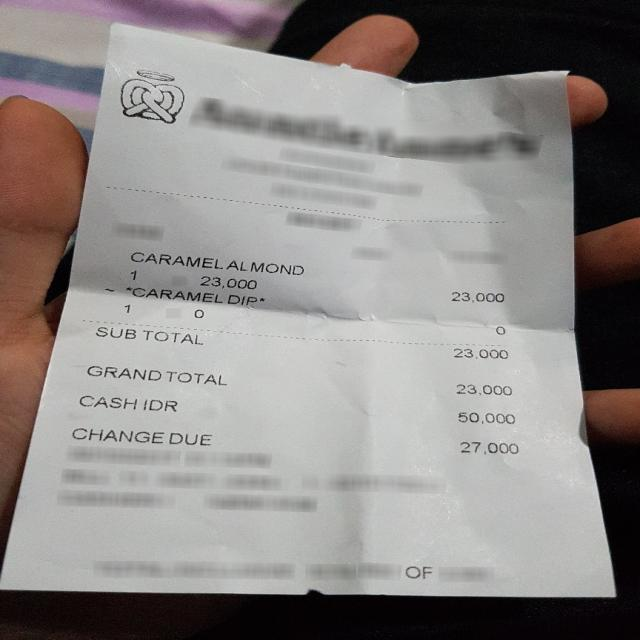kertas: (3, 23, 623, 598)
